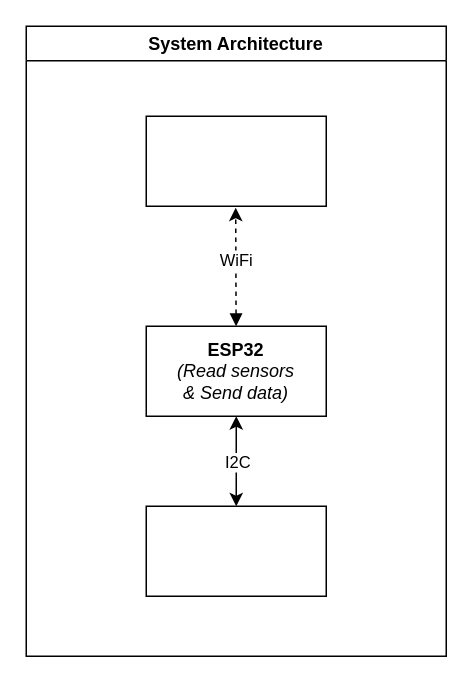
Image size: 473x683. Some labels were removed from this diagram. Here are the shapes that lost their labels. From the top down, the box of each, then its label:
(145, 115, 326, 206): Core IoT (Receive & Display data)
(145, 505, 326, 596): DHT20 (Temperature & Humidity Sensor)
